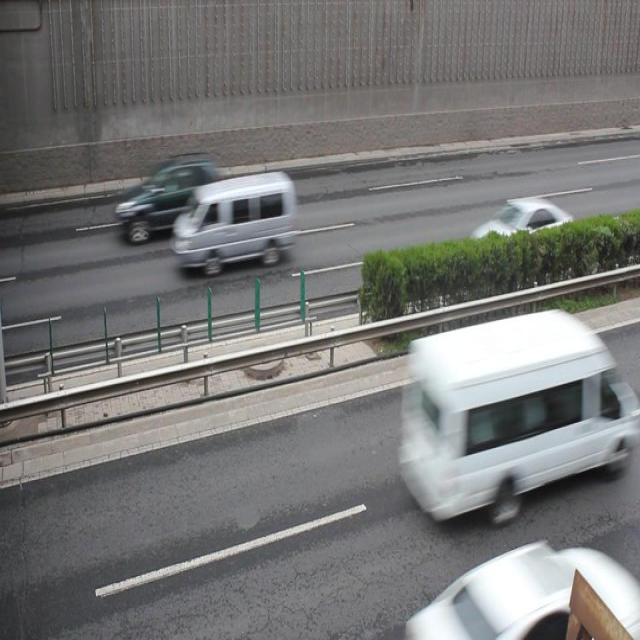car: (406, 540, 623, 640), (114, 151, 227, 241), (468, 196, 574, 275)
truck: (399, 310, 622, 516), (174, 172, 298, 275)
